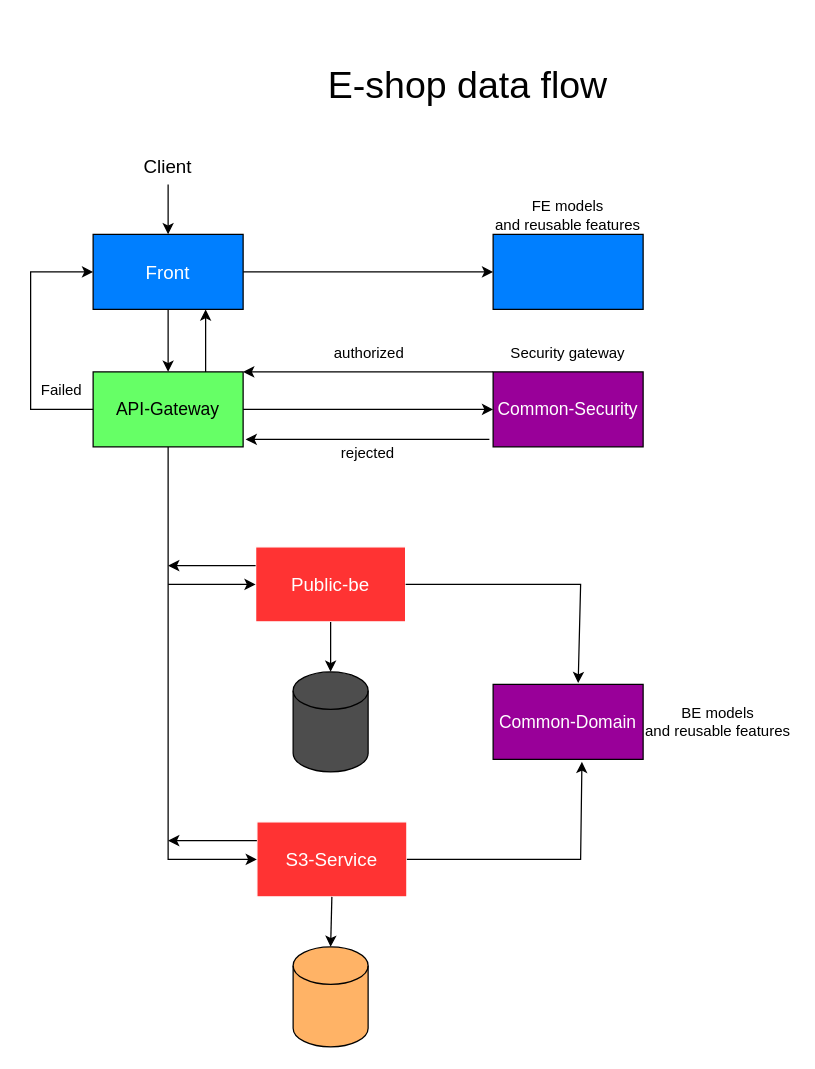
Some shapes in this 815 by 1069 pixel diagram are drawn without their labels. Each missing label, with the box of its shape:
Common: (492, 233, 643, 309)
Database: (292, 671, 368, 772)
S3: (292, 946, 368, 1047)
